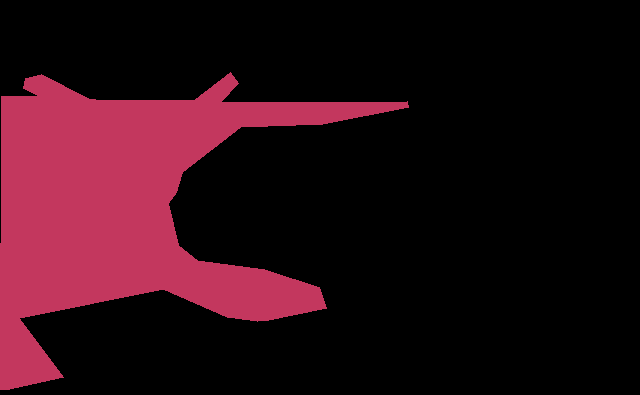Airplane: (0, 72, 408, 389)
